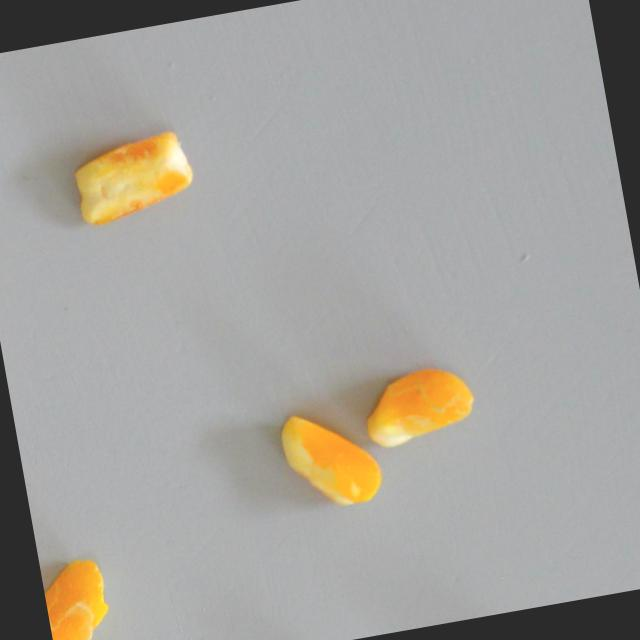dañado: (59, 122, 202, 239), (271, 399, 384, 518), (354, 358, 480, 455), (38, 551, 117, 640)
